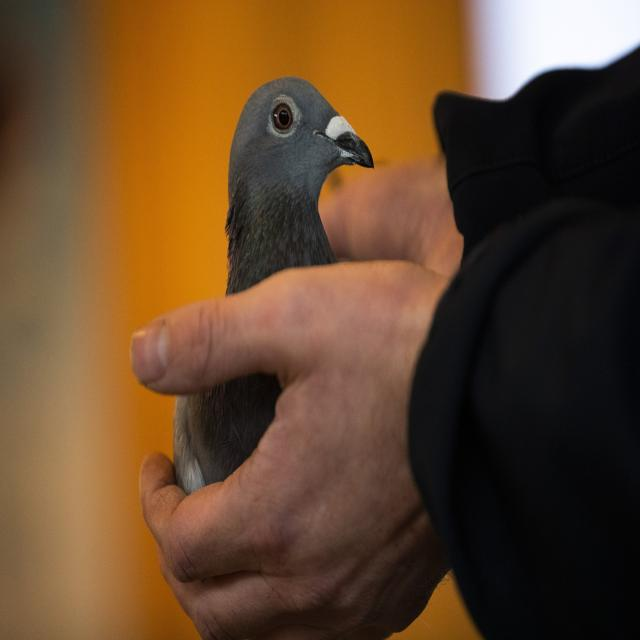Pigeon: (175, 51, 387, 276)
